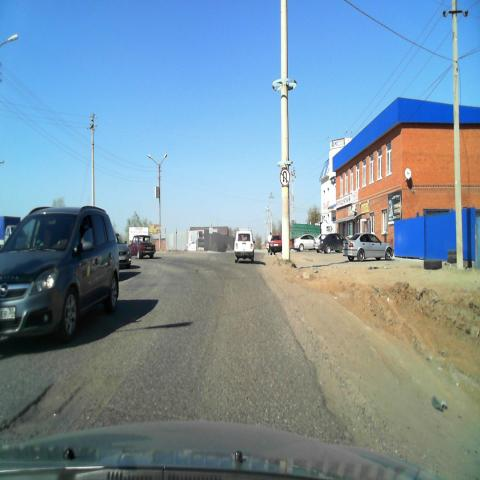3_19: (279, 168, 291, 186)
